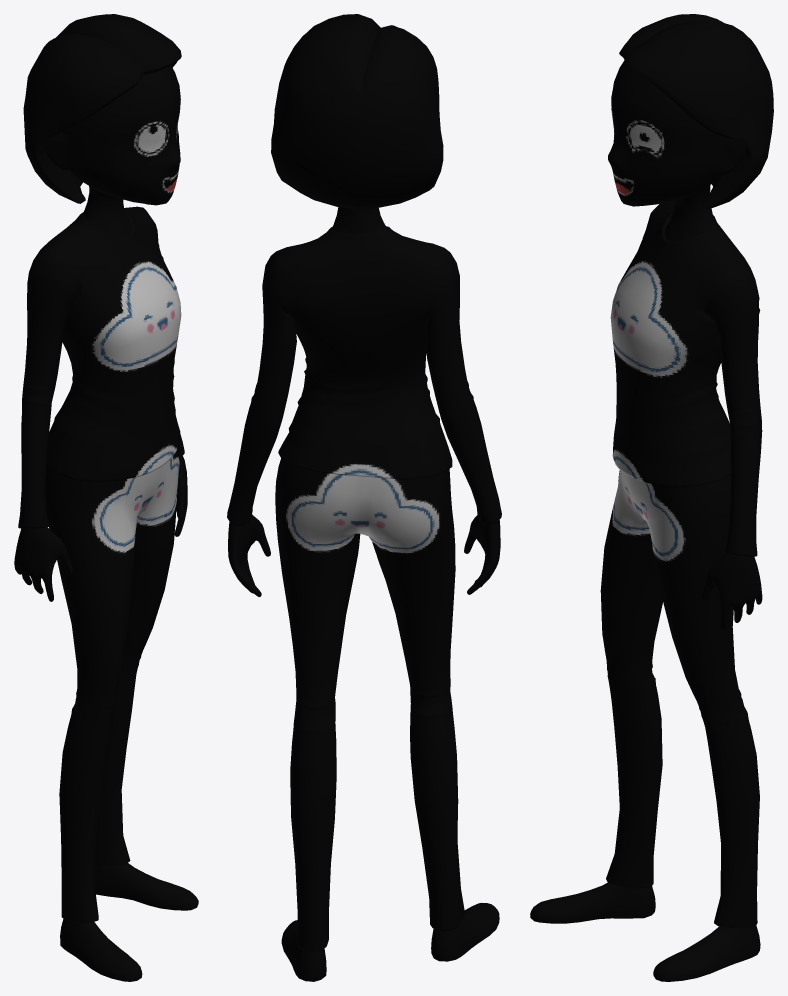
The model's file is ava.glb.
3 renders of one model, left to right at view 1: azimuth 30°, elevation 25°; view 2: azimuth 150°, elevation 25°; view 3: azimuth 270°, elevation 25°, orthographic. The views are drawn at different scales.
Parts seen in each view (by area): view 1: mesh_id27; view 2: mesh_id27; view 3: mesh_id27.
Part boxes in pixels (x1,y1,x2,y2): mesh_id27: (14,14,198,981); mesh_id27: (227,14,501,981); mesh_id27: (530,14,773,981).
Bounding box in the file's own units: 0.0947 × 0.3823 × 0.0917.
1 material, 1 textured.
